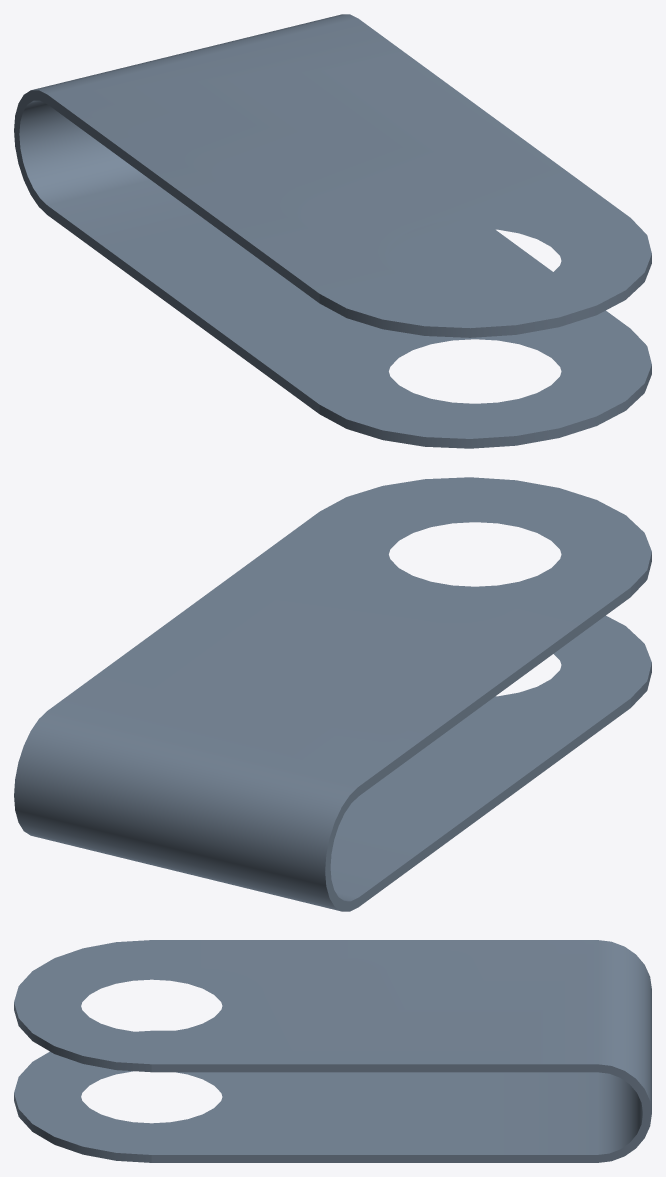
Rendered from original-1.obj.
The picture shows the model from 3 angles, top to bottom: view 1: azimuth 30°, elevation 25°; view 2: azimuth 150°, elevation 25°; view 3: azimuth 270°, elevation 25°; orthographic projection. The views are drawn at different scales.
Visible parts, largest first — view 1: #ID196; view 2: #ID196; view 3: #ID196.
Part boxes in pixels (x1,y1,x2,y2): #ID196: (14,14,651,448); #ID196: (14,477,651,911); #ID196: (14,940,651,1162).
Size of the model in its own units: 0.5498 by 0.2036 by 1.19.
